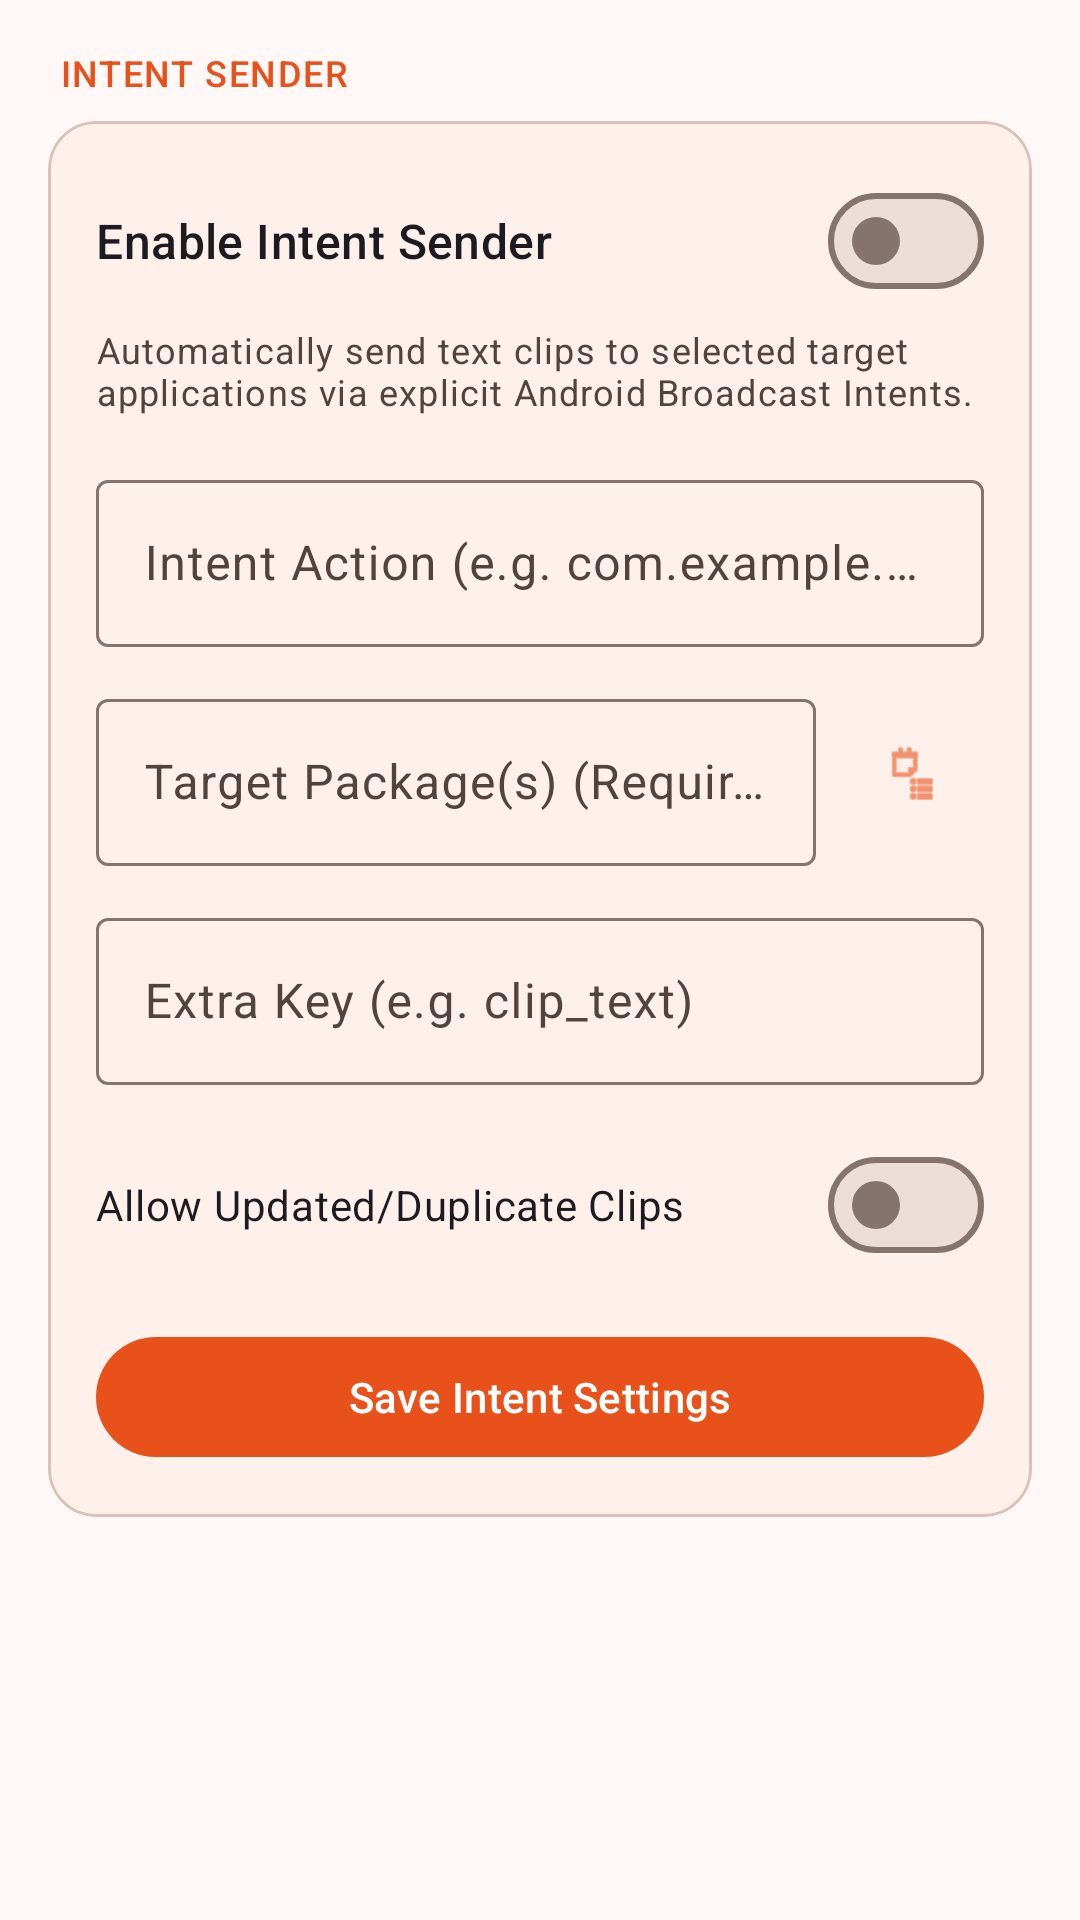

Icon click points for this 1080x1920 phone screenshot, format (x=x, y=y):
agenda: (x=912, y=773)
